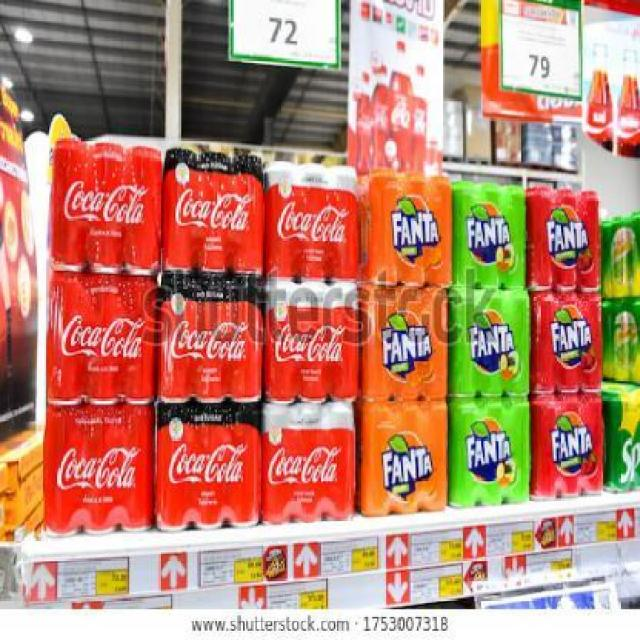Drinks: (50, 138, 162, 278), (42, 407, 153, 538), (158, 273, 265, 405), (47, 277, 156, 405), (154, 404, 260, 531), (163, 148, 263, 272), (262, 278, 360, 404), (260, 404, 357, 524), (263, 159, 359, 279), (358, 285, 448, 401), (358, 400, 448, 515), (368, 169, 452, 286), (447, 398, 531, 508), (447, 287, 530, 396), (527, 183, 601, 292), (452, 182, 526, 288), (531, 394, 603, 500), (529, 293, 603, 395)
